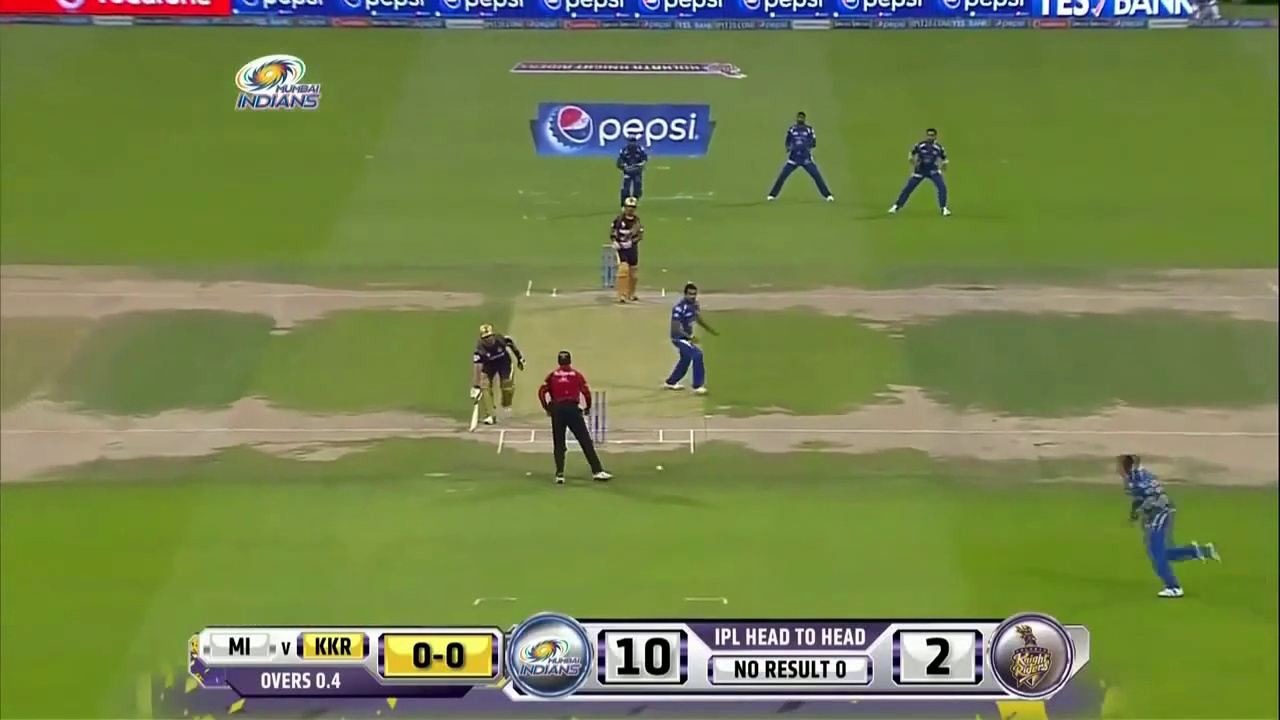bat: (469, 404, 484, 433)
stumps: (594, 389, 607, 446)
